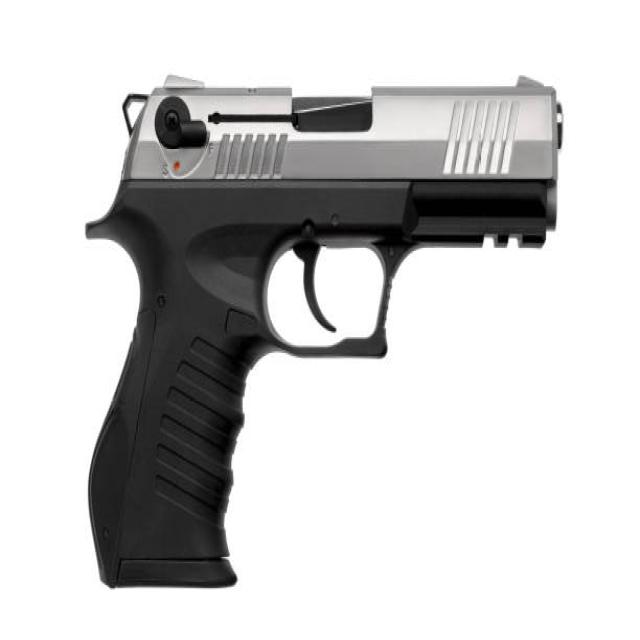pistol: (74, 64, 573, 603)
